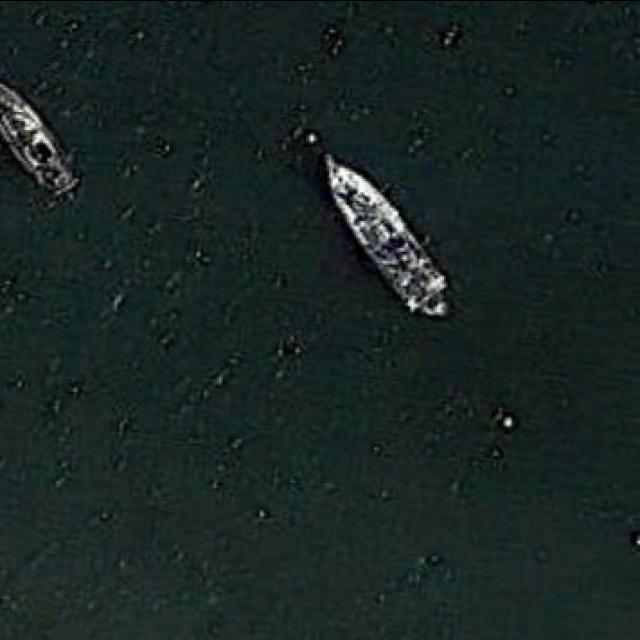ship: (314, 148, 448, 316), (0, 78, 81, 206)
